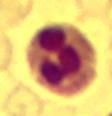eosi: (24, 20, 98, 98)
